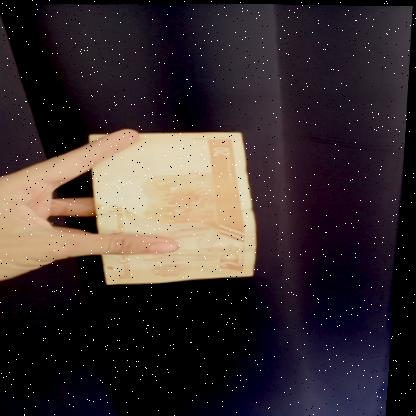twenty-back-vef: (80, 128, 267, 287)
